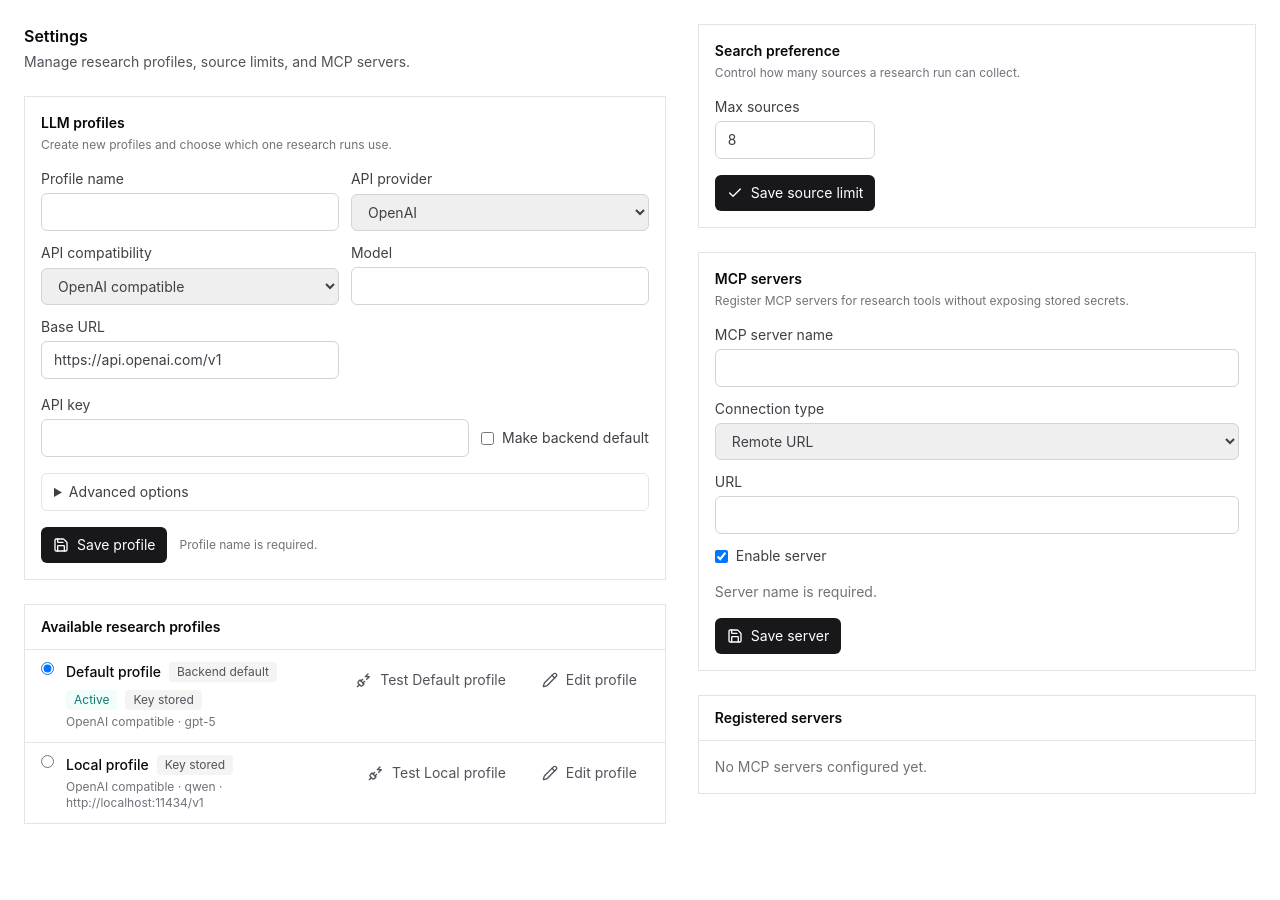
it: SettingsPanel › lets the user choose and test the research profile
The width and height of the screenshot is (1280, 900).
Click the radio button with aria-label "Use Local profile for research": (48, 762) [41,755,54,768]
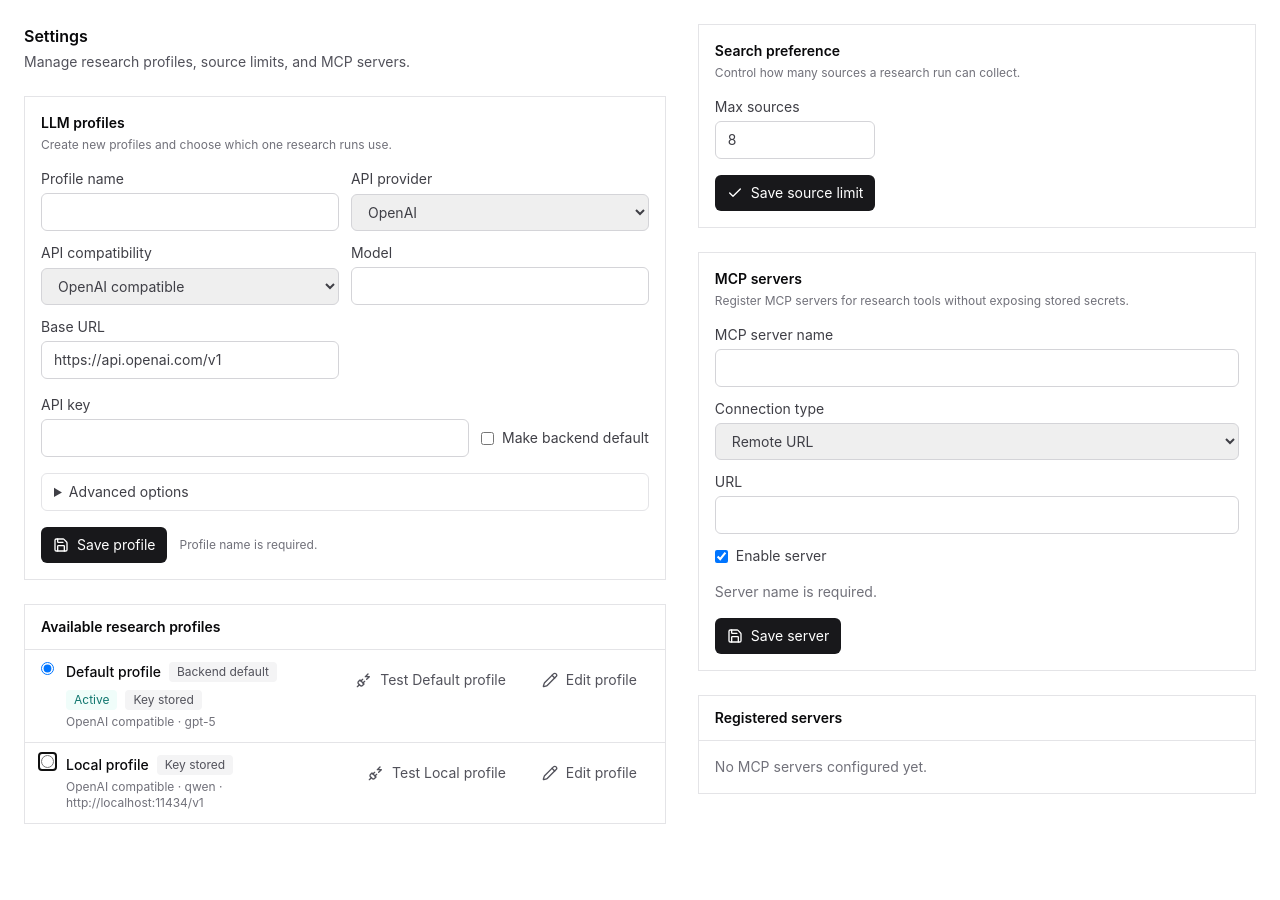
Click the button "Test Local profile": (437, 773) [356,755,518,791]
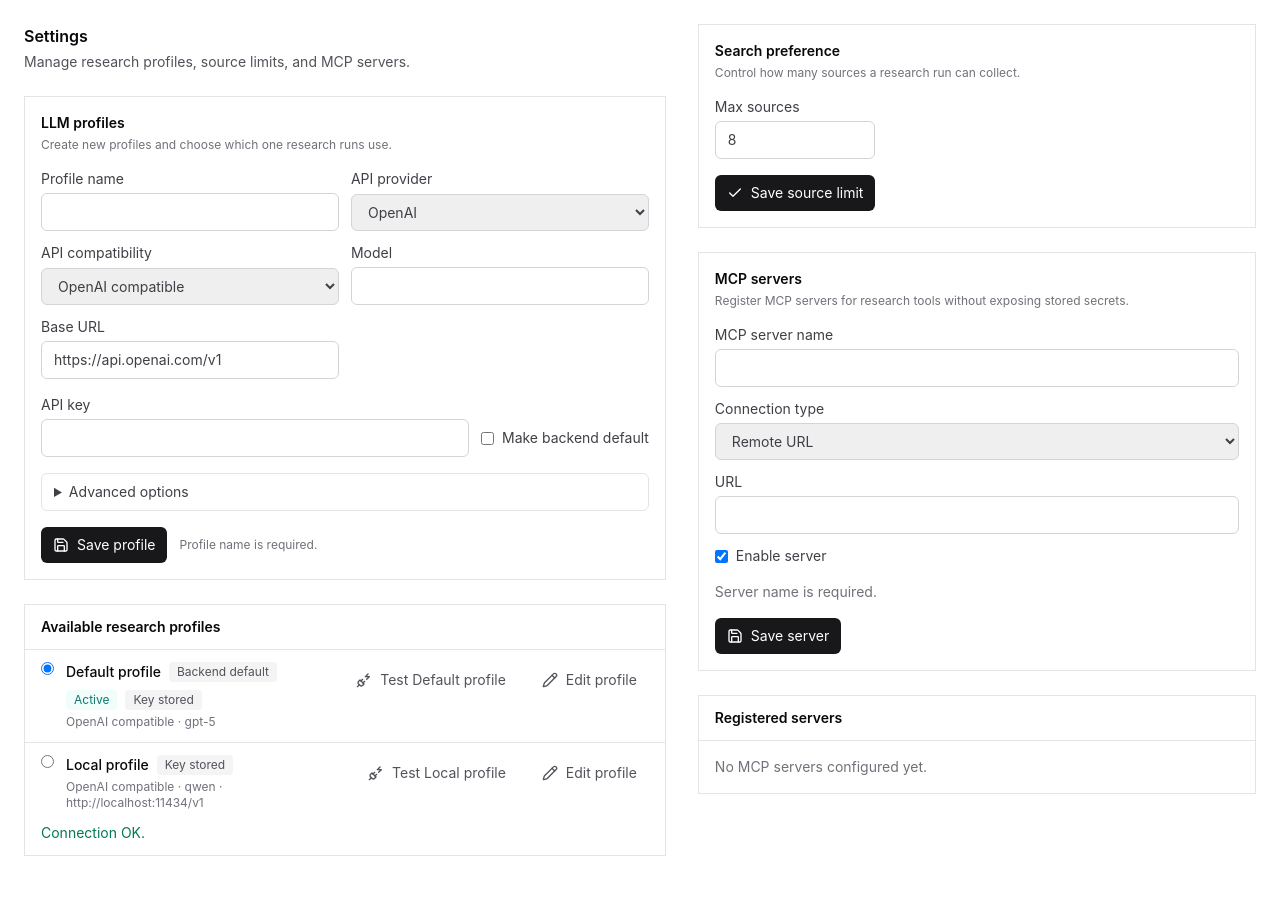
expect the text "Connection OK." is shown: met, box [41,824,145,841]
